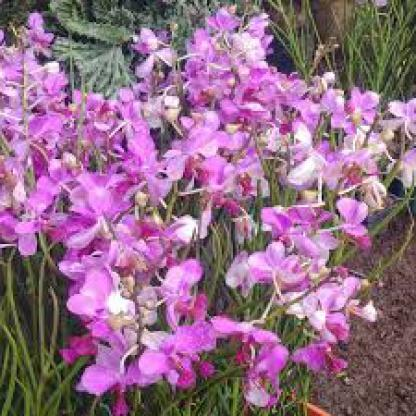ANGGREK: (9, 12, 401, 402)
